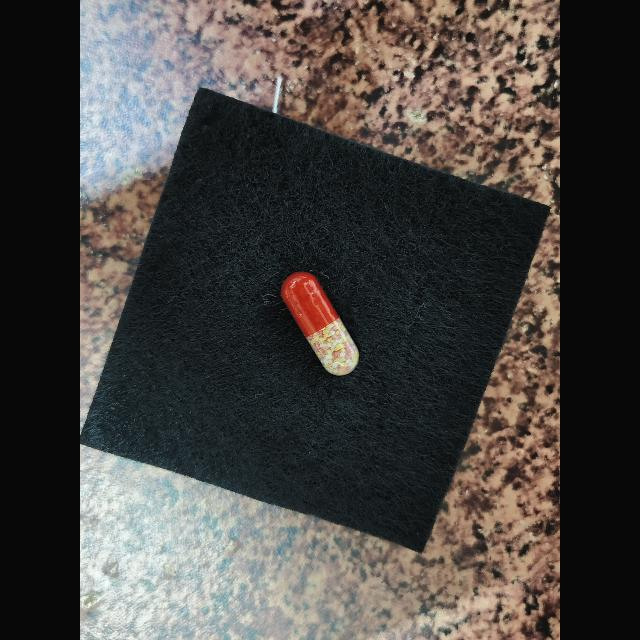Intact Capsule: (281, 272, 359, 376)
